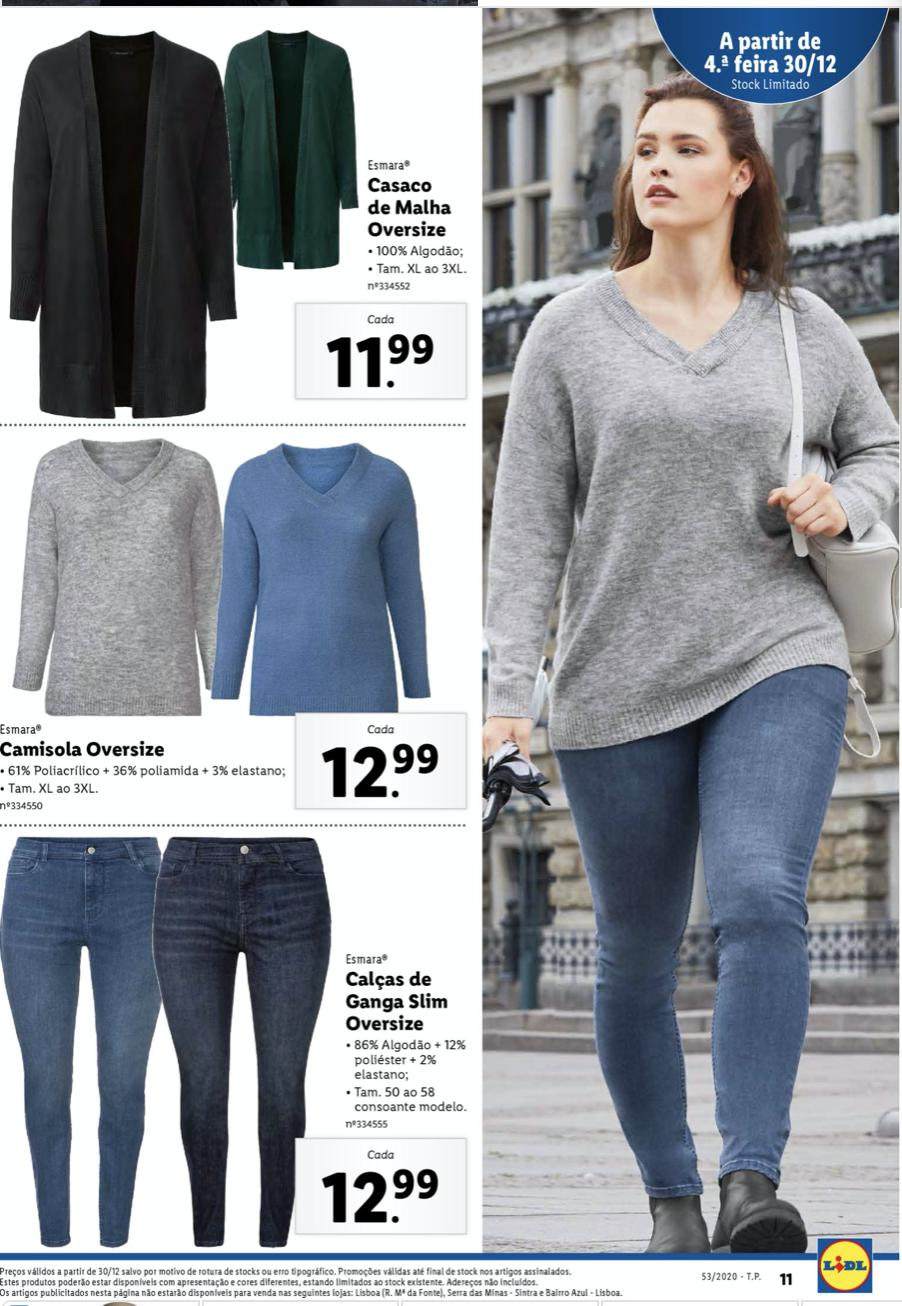name: (338, 966, 457, 1037), (362, 169, 464, 239), (1, 734, 173, 763)
price: (288, 295, 473, 403), (286, 710, 470, 813), (289, 1134, 468, 1239)
product: (1, 832, 464, 1250), (4, 11, 473, 418), (1, 435, 468, 824)
